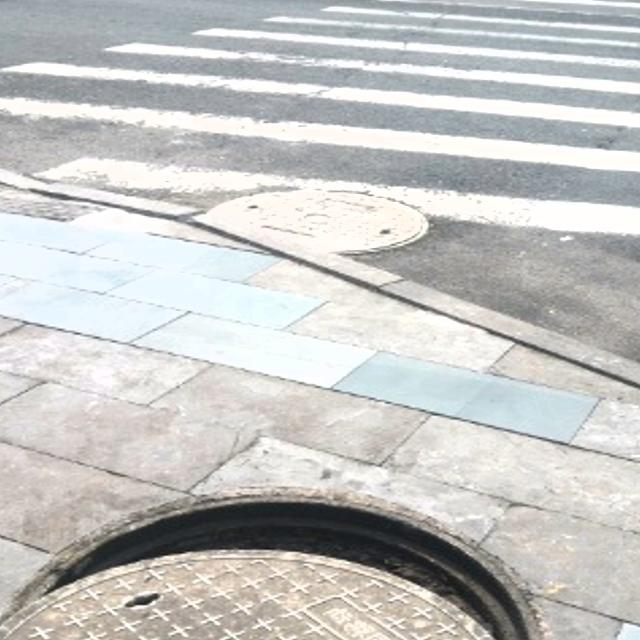good: (191, 192, 429, 249)
uncovered: (0, 490, 548, 640)
